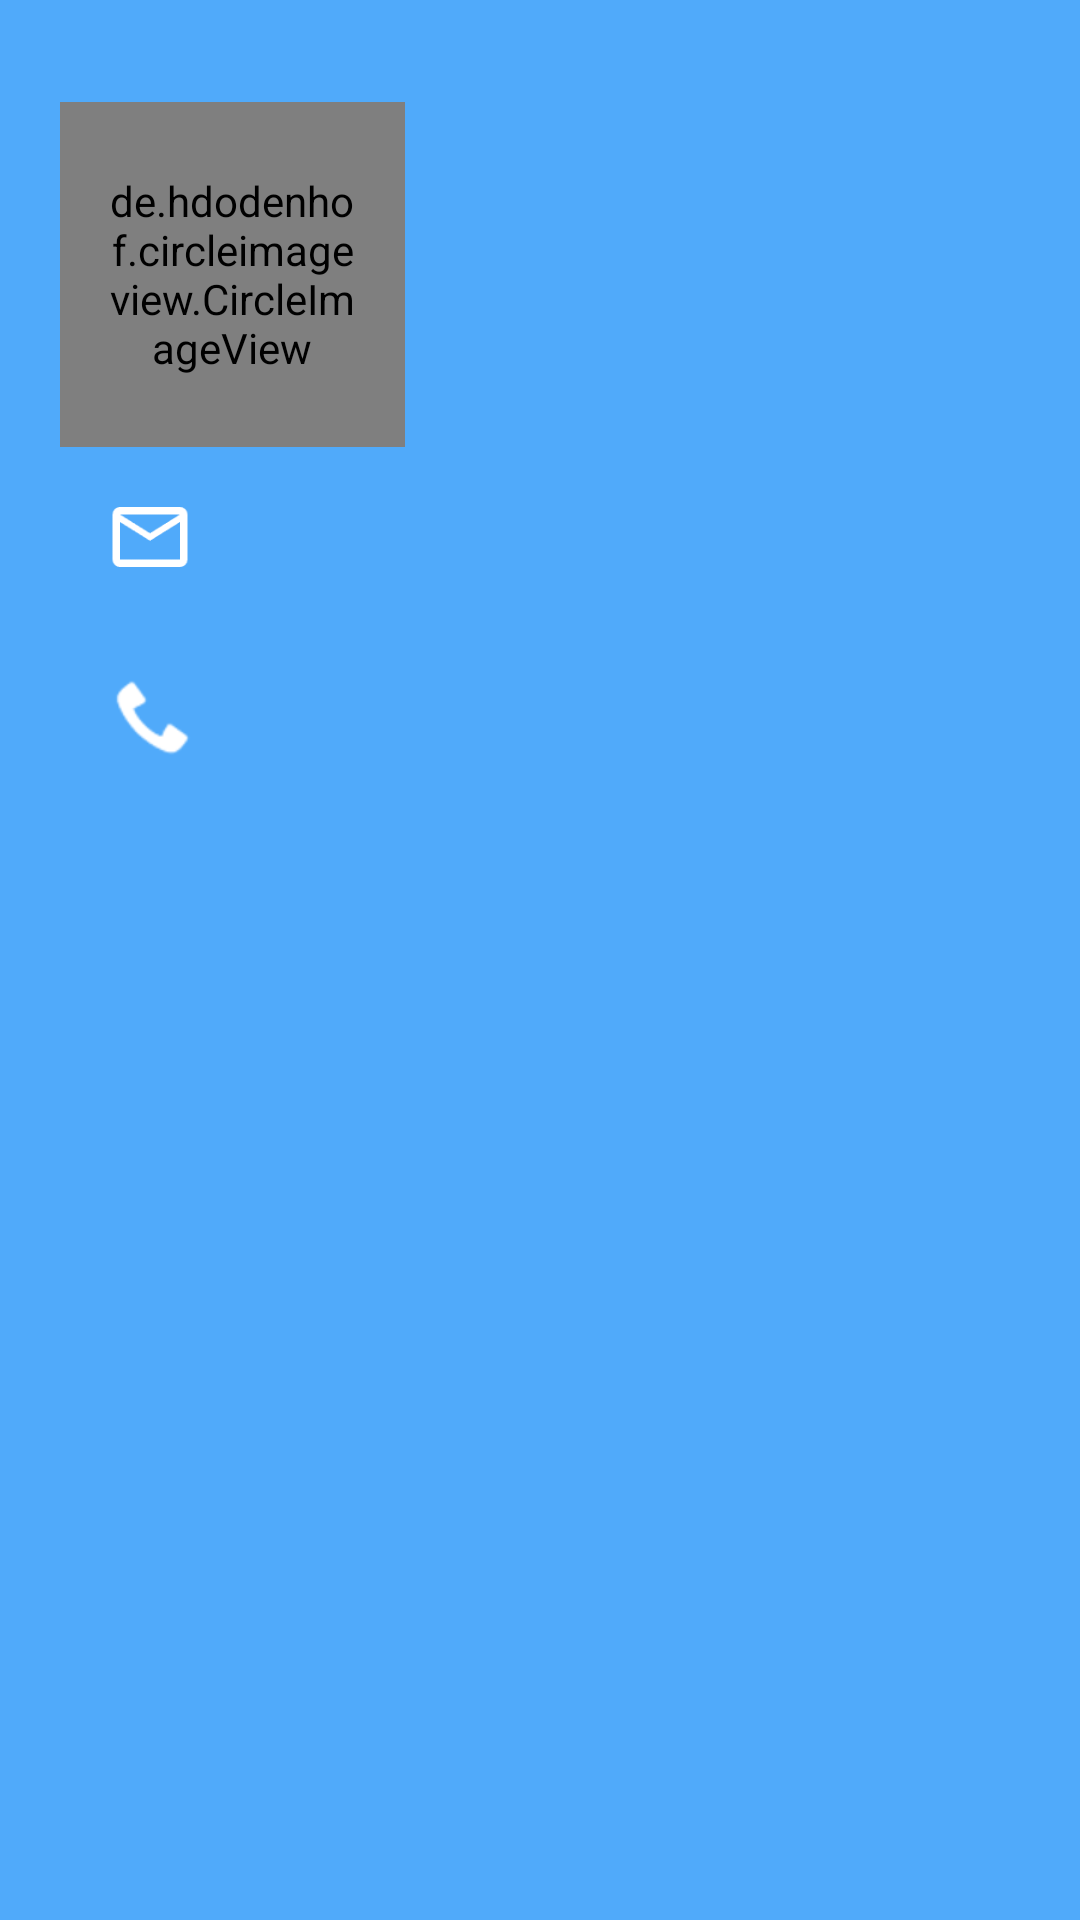

Named icons in this screenshot (1080 x 1920) and their bounding boxes, [x1, y1, x2, y2]:
mail: [112, 507, 188, 567]
